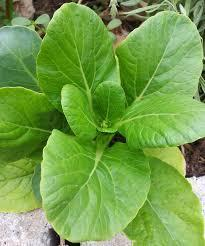Healthy-Pechay: (7, 18, 205, 220), (53, 121, 116, 217)
